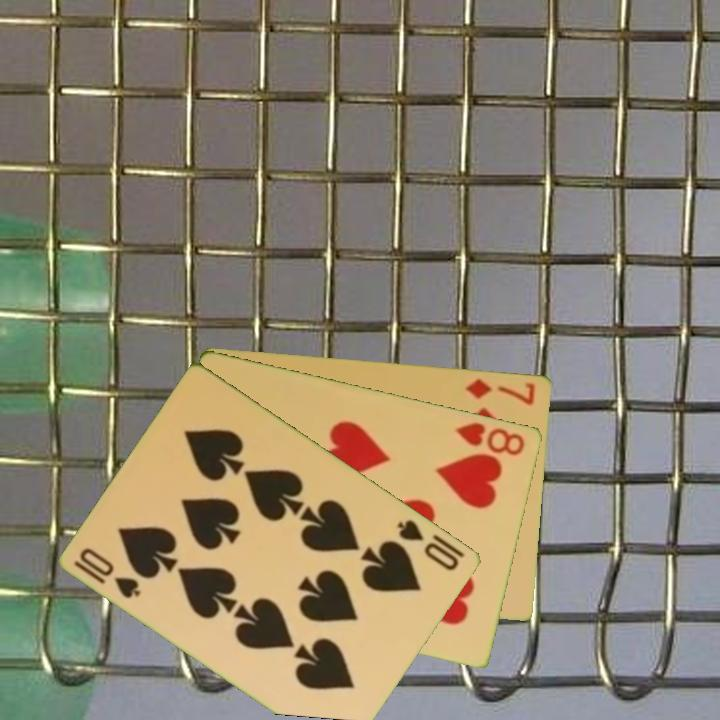10s: (71, 544, 145, 602), (394, 515, 462, 574)
7d: (462, 375, 539, 408)
8h: (452, 418, 528, 458)
